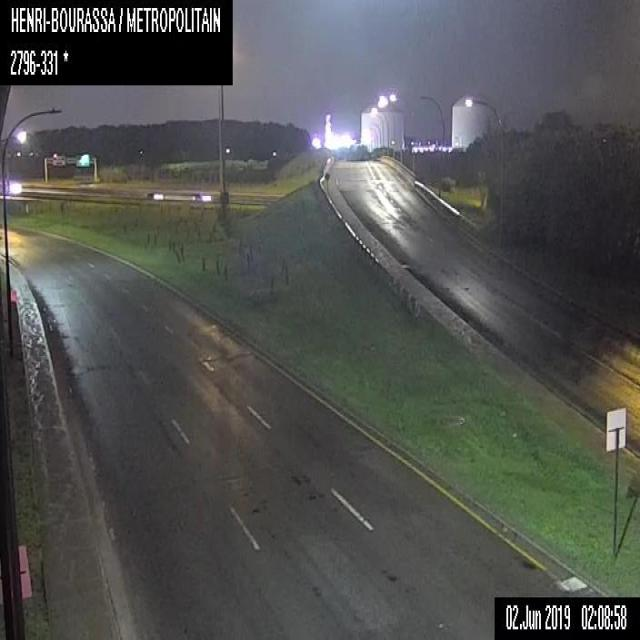vehicle: (4, 177, 22, 196), (188, 191, 210, 200), (146, 191, 163, 198)
